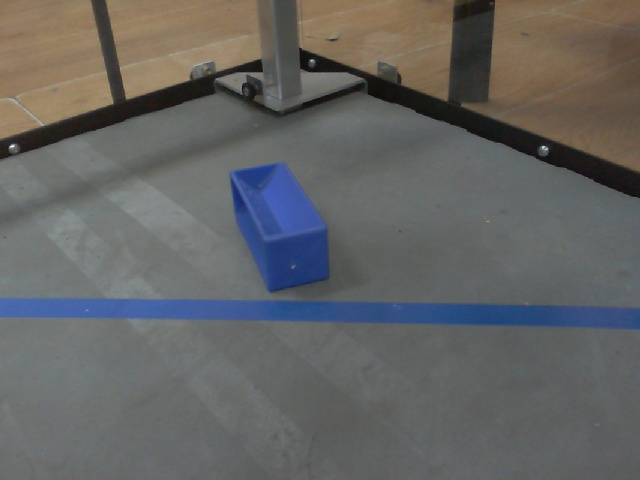BlueSample: (225, 158, 331, 295)
